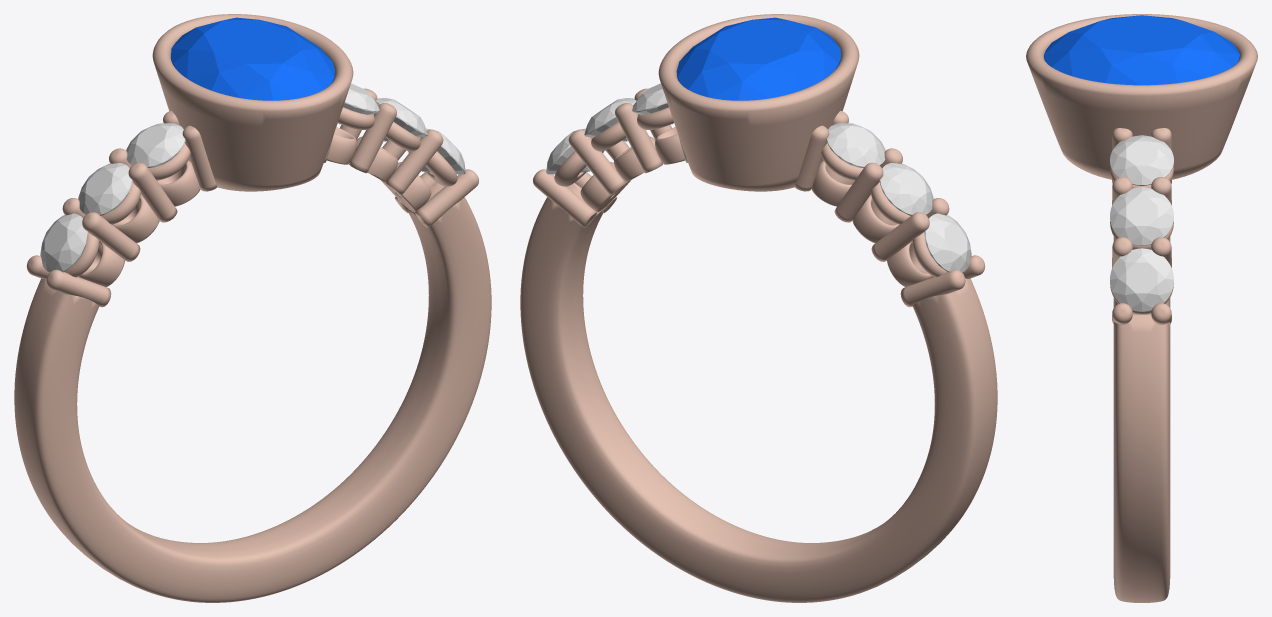
File: bluesapphire-oval-rosegold-bezelset-straightband-7stone.glb
3 renders of one model, left to right at view 1: azimuth 30°, elevation 25°; view 2: azimuth 150°, elevation 25°; view 3: azimuth 270°, elevation 25°, orthographic.
Parts seen in each view (by area): view 1: metal, stone.002, side.019, side.018, side.020, side.022, side.023, side.021; view 2: metal, stone.002, side.019, side.018, side.020, side.022, side.023, side.021; view 3: metal, stone.002, side.021, side.022, side.023.
Boxes of the visible parts, <box> form: metal: <box>14,14,491,602</box>; stone.002: <box>170,17,335,100</box>; side.019: <box>78,163,132,215</box>; side.018: <box>40,213,87,272</box>; side.020: <box>126,123,185,167</box>; side.022: <box>375,98,427,141</box>; side.023: <box>339,83,379,124</box>; side.021: <box>421,128,465,174</box>; metal: <box>520,14,997,602</box>; stone.002: <box>676,17,840,100</box>; side.019: <box>879,163,933,215</box>; side.018: <box>924,213,971,272</box>; side.020: <box>826,123,885,167</box>; side.022: <box>584,98,636,141</box>; side.023: <box>632,83,672,124</box>; side.021: <box>546,128,590,174</box>; metal: <box>1026,14,1257,602</box>; stone.002: <box>1044,15,1239,85</box>; side.021: <box>1110,248,1173,311</box>; side.022: <box>1110,187,1173,245</box>; side.023: <box>1110,135,1173,185</box>.
Size of the model in its own units: 20.49 by 23.41 by 9.04.
